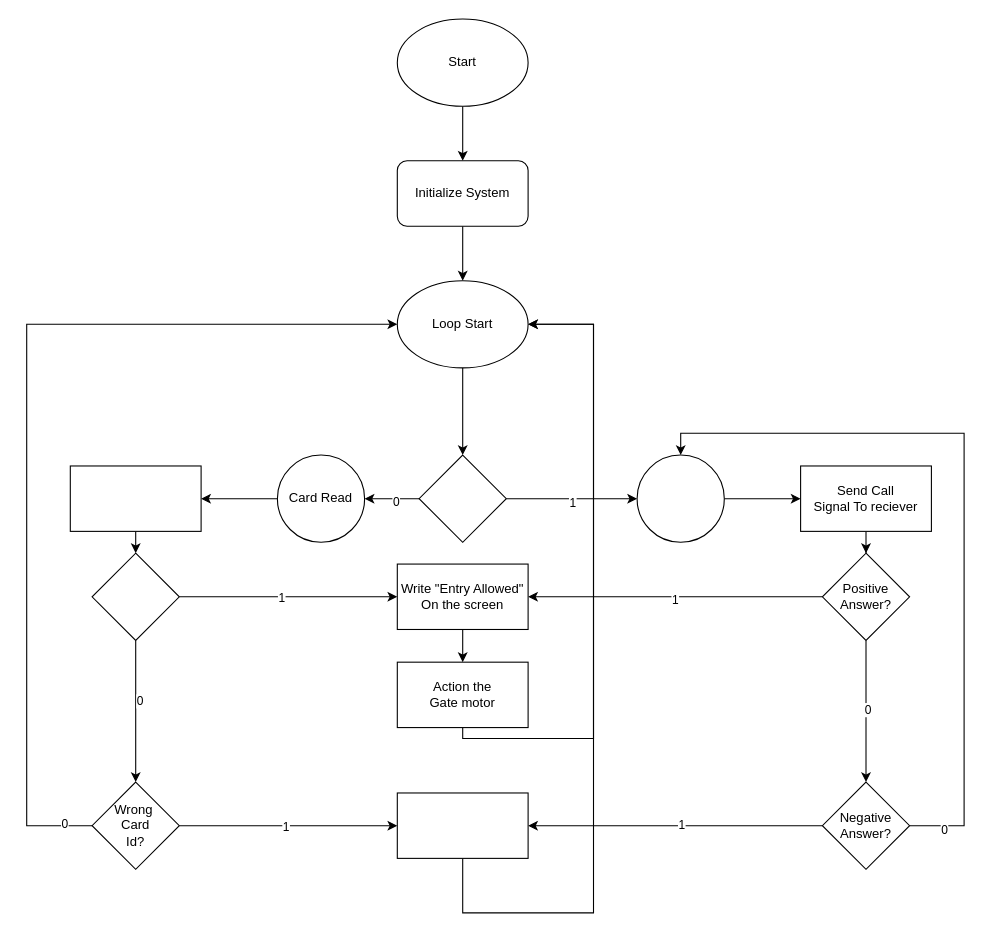
This 992x941 diagram has some shape labels left out. The shapes that lost their labels are listed below. From the top down, each one's centre as x and y in pixels, then its label:
(x=135, y=498): Read Card
(x=462, y=498): Call Started?
(x=680, y=498): Initialize Call
(x=135, y=596): Correct Card Id?
(x=462, y=825): Write "Entry Denied" On the screen
